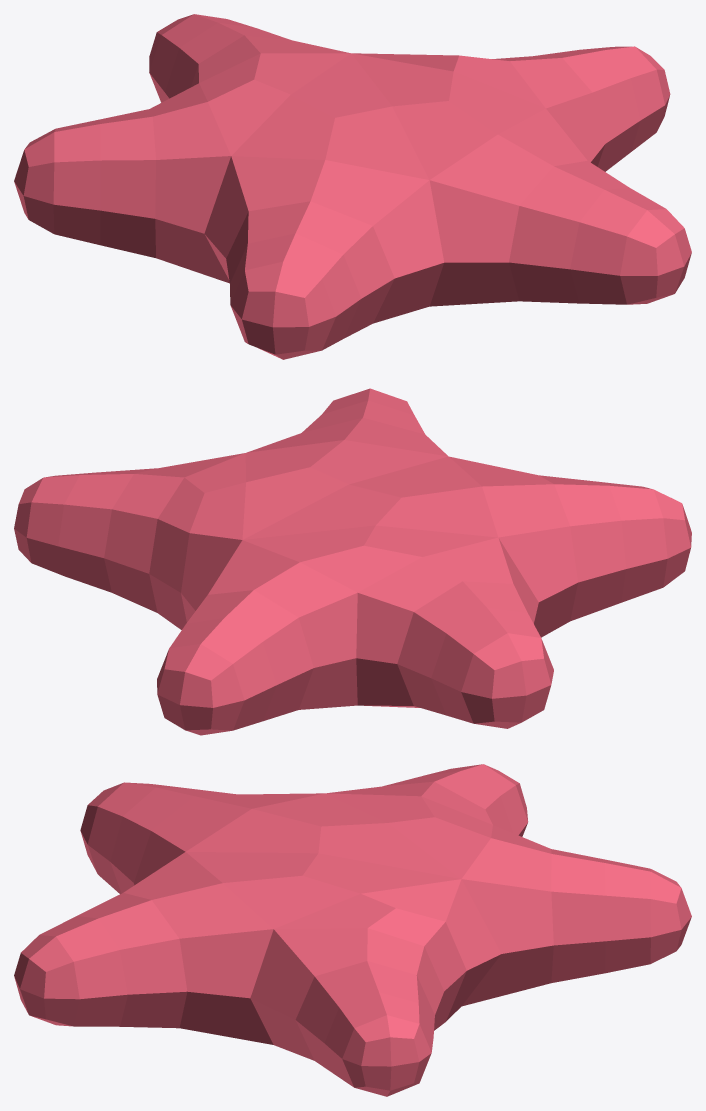
File: starfish.fbx
The picture shows the model from 3 angles, top to bottom: view 1: azimuth 30°, elevation 25°; view 2: azimuth 150°, elevation 25°; view 3: azimuth 270°, elevation 25°; orthographic projection. The views are drawn at different scales.
Parts seen in each view (by area): view 1: Starfish; view 2: Starfish; view 3: Starfish.
Boxes of the visible parts, x1,y1,x2,y2 form: Starfish: (14, 14, 691, 359); Starfish: (14, 388, 691, 735); Starfish: (14, 764, 691, 1096).
Bounding box in the file's own units: 52.03 × 13.26 × 54.57.
